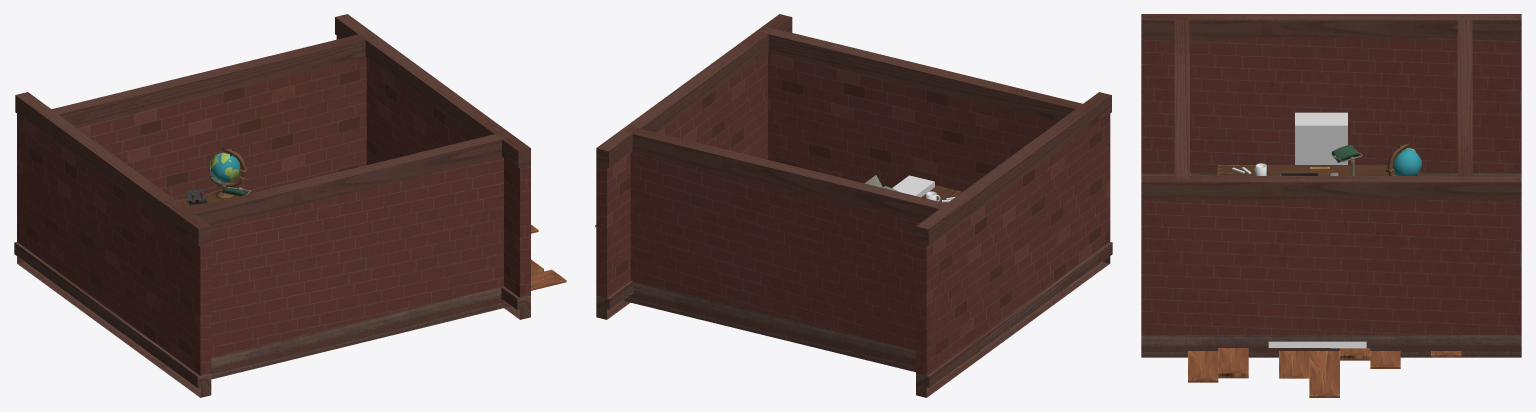
Rendered from Blocagem2.fbx.
The picture shows the model from 3 angles, left to right: view 1: azimuth 30°, elevation 25°; view 2: azimuth 150°, elevation 25°; view 3: azimuth 270°, elevation 25°; orthographic projection. The views are drawn at different scales.
Visible parts, largest first — view 1: Cube, Cube.004, Cube.001, Cube.003, Cube.027, Cube.002; view 2: Cube.001, Cube.004, Cube, Cube.003, Cube.012; view 3: Cube.003, Cube.004, Cube.002, Cube.019, Cube, Cube.001, Cube.010, Cube.027, Plane.153.
Boxes of the visible parts, left/top/right/bottom form: Cube: left=187, top=132, right=511, bottom=379; Cube.004: left=14, top=92, right=211, bottom=397; Cube.001: left=51, top=32, right=374, bottom=200; Cube.003: left=335, top=14, right=530, bottom=319; Cube.027: left=209, top=147, right=247, bottom=199; Cube.002: left=531, top=224, right=566, bottom=290; Cube.001: left=623, top=126, right=946, bottom=372; Cube.004: left=916, top=92, right=1112, bottom=397; Cube: left=759, top=26, right=1083, bottom=191; Cube.003: left=596, top=14, right=792, bottom=319; Cube.012: left=892, top=175, right=934, bottom=197; Cube.003: left=1141, top=176, right=1521, bottom=357; Cube.004: left=1141, top=14, right=1521, bottom=175; Cube.002: left=1188, top=348, right=1461, bottom=397; Cube.019: left=1295, top=112, right=1347, bottom=164; Cube: left=1174, top=20, right=1190, bottom=180; Cube.001: left=1456, top=20, right=1472, bottom=179; Cube.010: left=1217, top=165, right=1420, bottom=175; Cube.027: left=1386, top=143, right=1421, bottom=175; Plane.153: left=1268, top=341, right=1366, bottom=348.
Size of the model in its own units: 1297 by 497 by 977.
